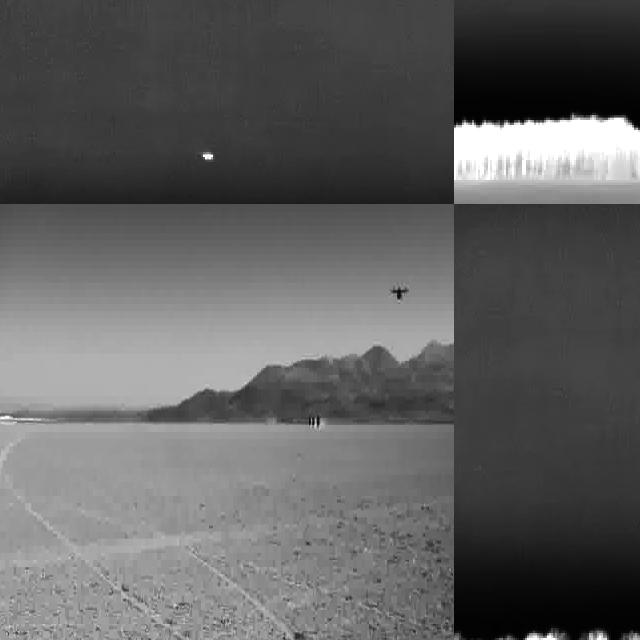1: (196, 147, 226, 167), (454, 463, 464, 493)
drone: (386, 281, 408, 309)
